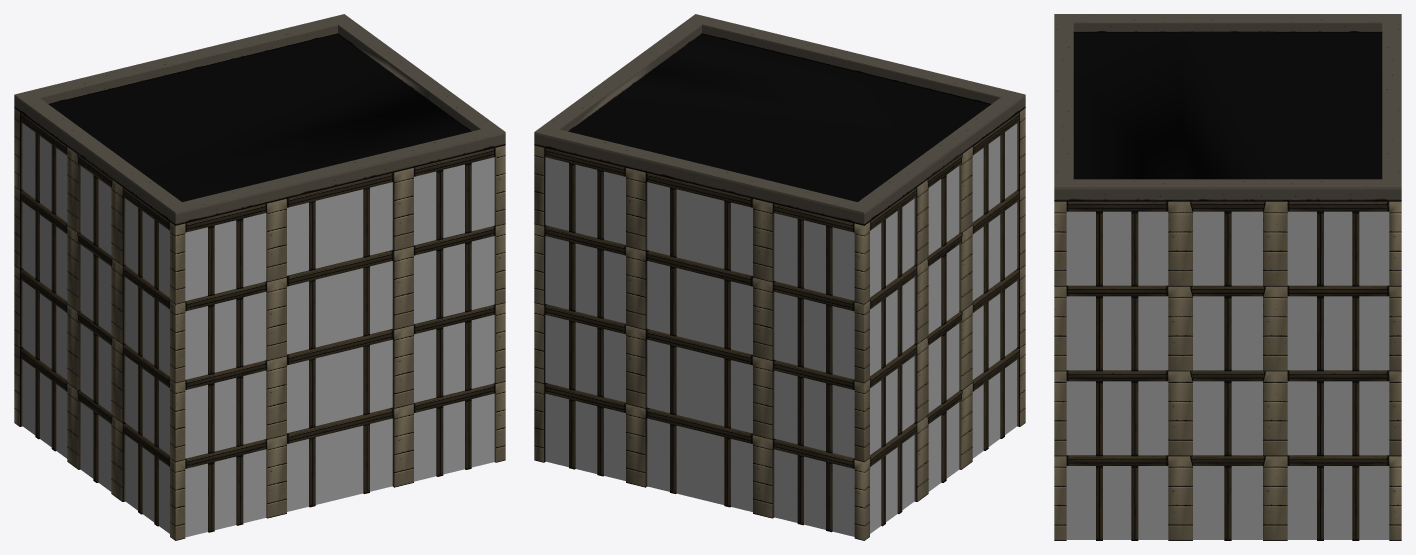
The model's file is mod_env_building_smallstore01_top.fbx.
3 views of the same model, side by side, from view 1: azimuth 30°, elevation 25°; view 2: azimuth 150°, elevation 25°; view 3: azimuth 270°, elevation 25° (orthographic). The views are drawn at different scales.
Parts seen in each view (by area): view 1: mod_env_building_smallstore01_top; view 2: mod_env_building_smallstore01_top; view 3: mod_env_building_smallstore01_top.
Boxes of the visible parts, left/top/right/bottom form: mod_env_building_smallstore01_top: left=14, top=14, right=505, bottom=540; mod_env_building_smallstore01_top: left=534, top=14, right=1025, bottom=540; mod_env_building_smallstore01_top: left=1054, top=14, right=1401, bottom=540.
Size of the model in its own units: 1300 by 1236 by 1100.
